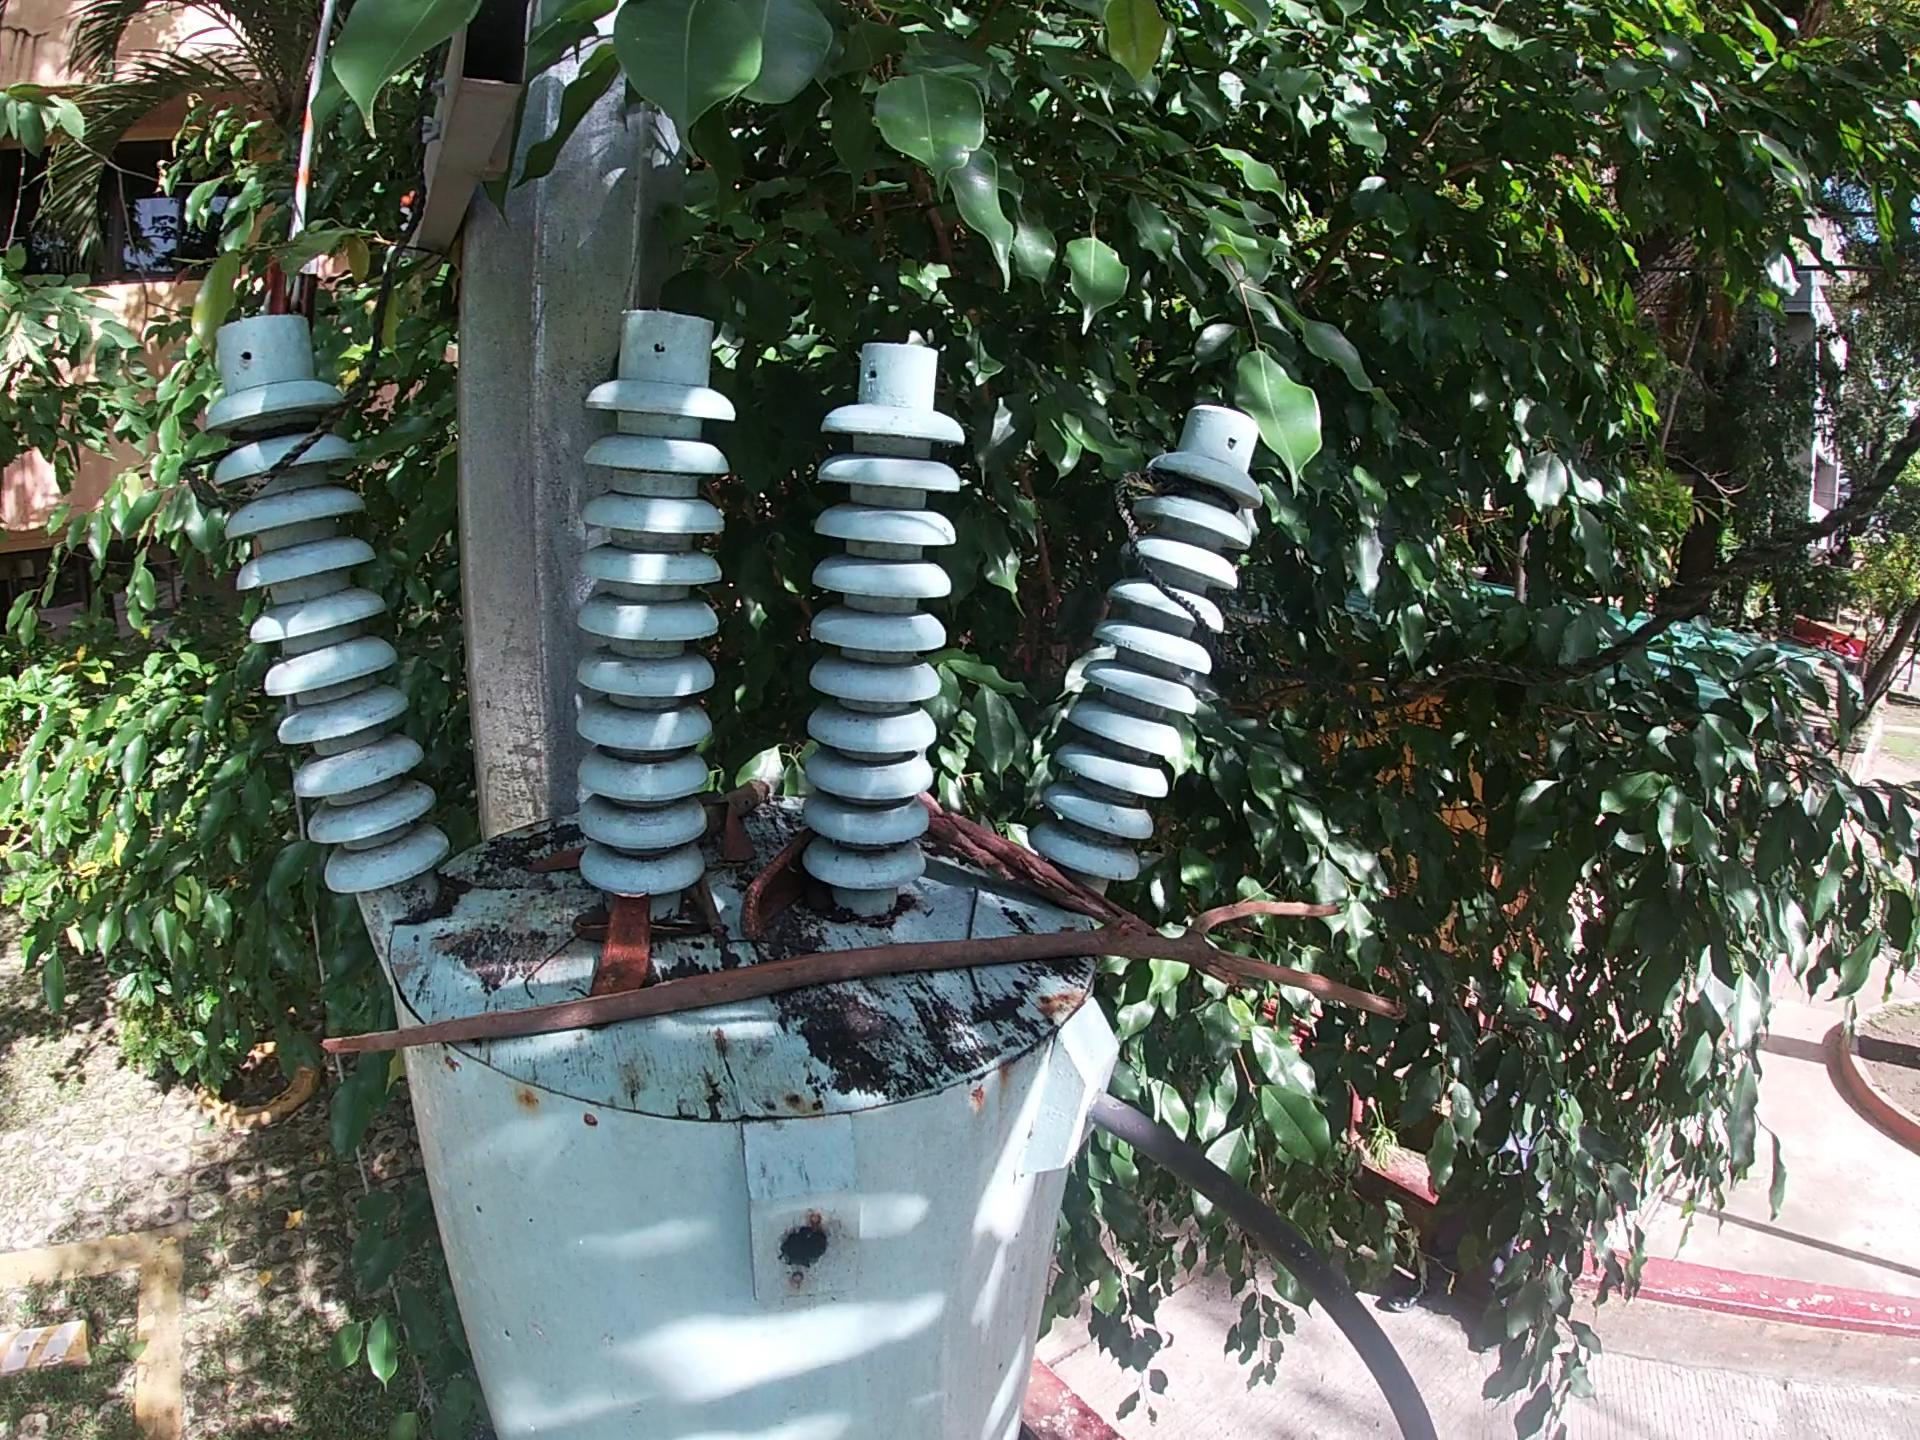leaf: (720, 806, 768, 879), (519, 846, 594, 882)
mahogany fruit: (732, 843, 815, 953), (593, 880, 662, 992)
tree branch: (308, 877, 1454, 1103), (924, 793, 1134, 933), (500, 936, 594, 1007), (701, 773, 766, 826), (701, 880, 736, 953), (655, 921, 730, 953), (963, 879, 1002, 936), (573, 911, 626, 939), (957, 967, 993, 1006)
